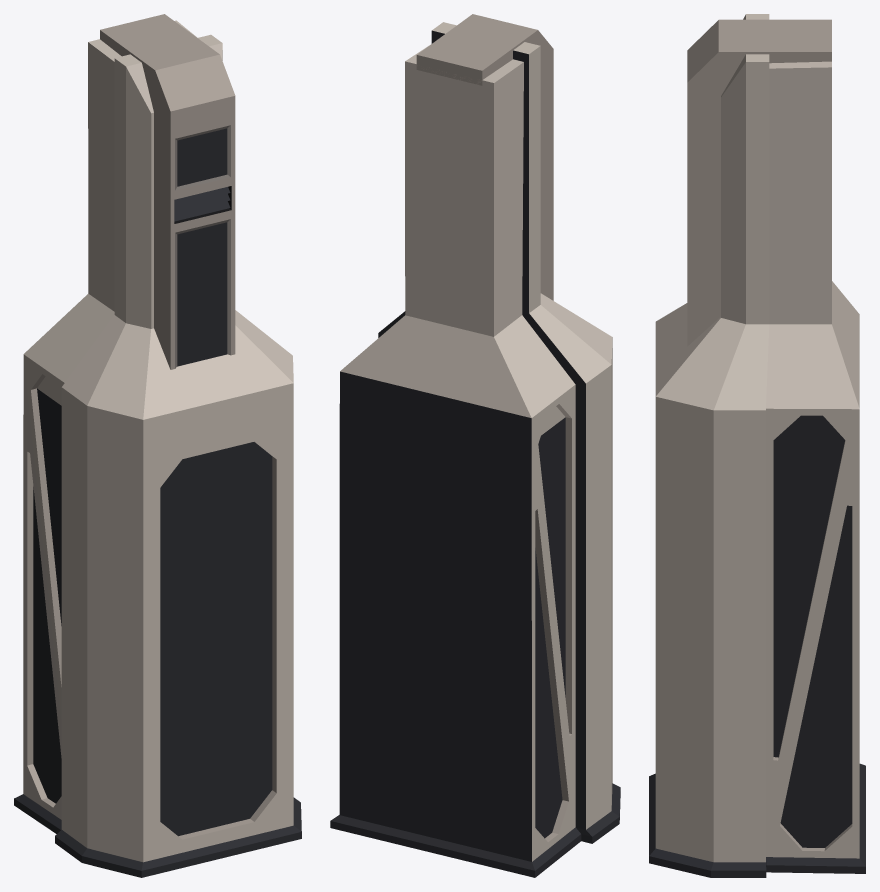
File: SM_Shower.glb
3 views of the same model, side by side, from view 1: azimuth 30°, elevation 25°; view 2: azimuth 150°, elevation 25°; view 3: azimuth 270°, elevation 25° (orthographic). The views are drawn at different scales.
Parts seen in each view (by area): view 1: SM_Shower; view 2: SM_Shower; view 3: SM_Shower.
Part boxes in pixels (bbox=[...]): SM_Shower: bbox=[14, 14, 301, 877]; SM_Shower: bbox=[330, 14, 620, 877]; SM_Shower: bbox=[649, 14, 865, 877].
Bounding box in the file's own units: 1.38 × 4.66 × 1.16.
Materials: 1 (1 with a texture image).
